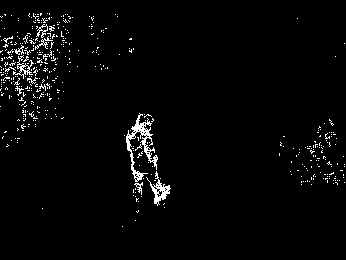person: (123, 110, 172, 209)
